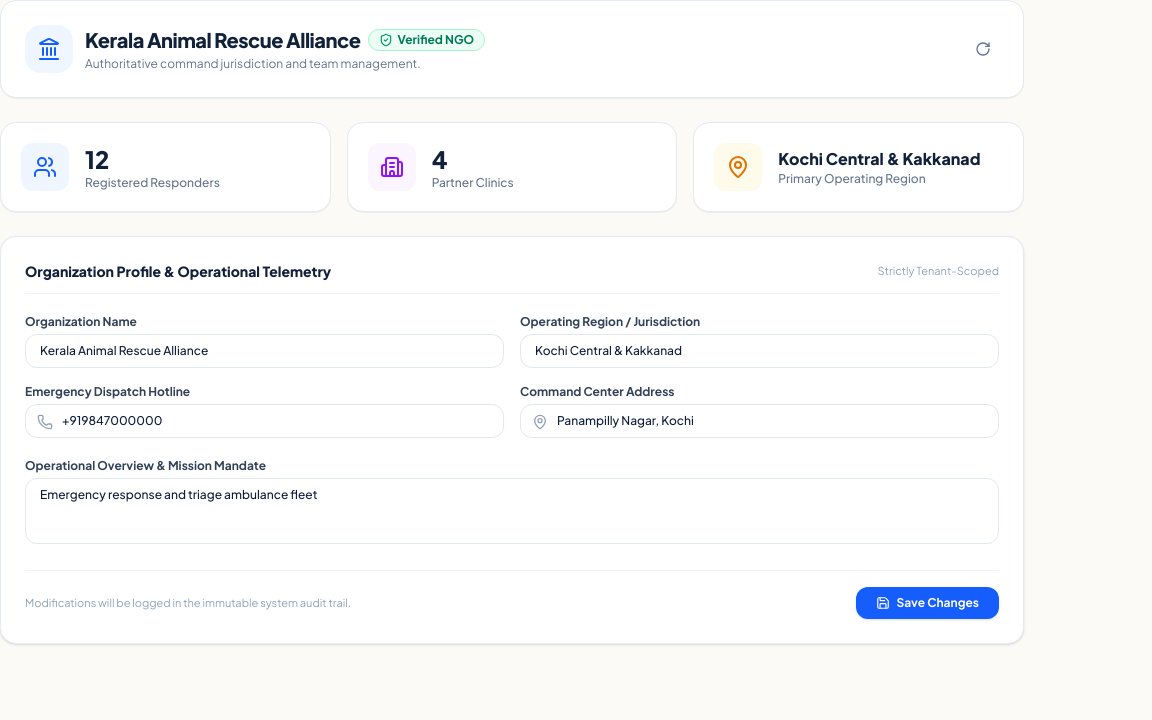
Test: NGOOrganization Component › loads profile and submits updates to authoritative backend
Check: the heading "Kerala Animal Rescue Alliance" is shown, box [85,26,360,54]
Check: the text "12" is shown, box [85,144,109,174]
Note: Update region input
Replace the text in the field labelled "Operating Region / Jurisdiction" with "Greater Kochi Metropolitan Area" at [760, 351], box [520,334,999,368]
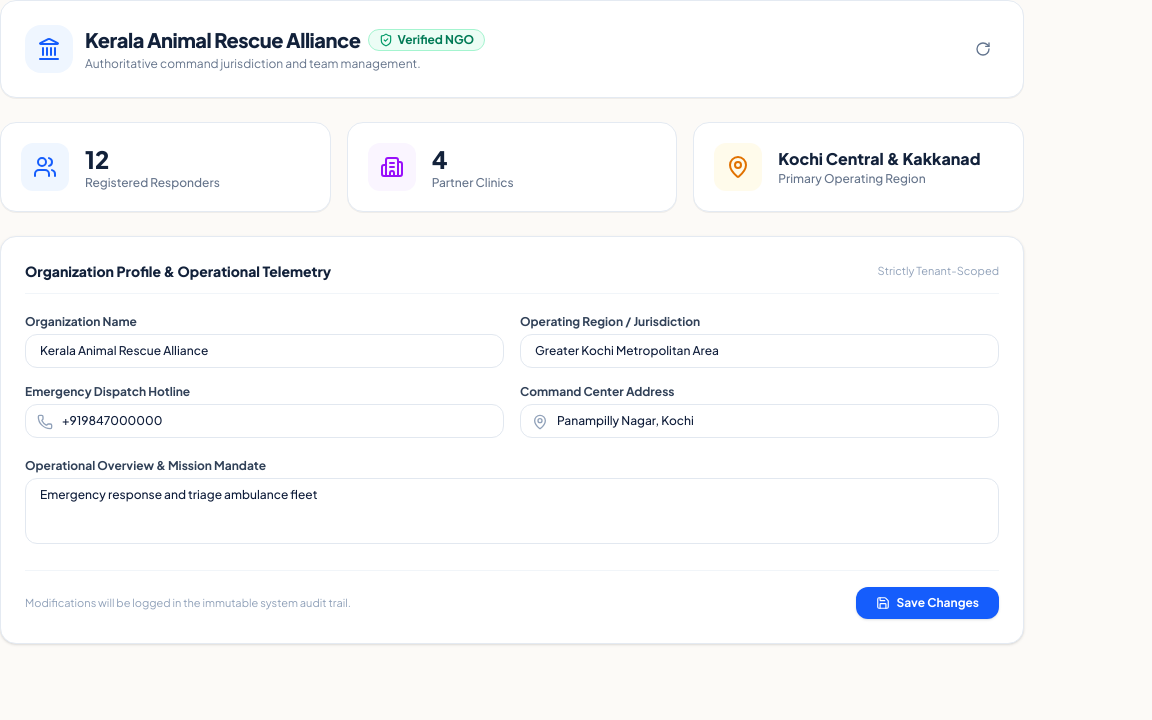
Note: Submit form
Click the button "Save Changes" at [928, 603], box [856,587,999,619]
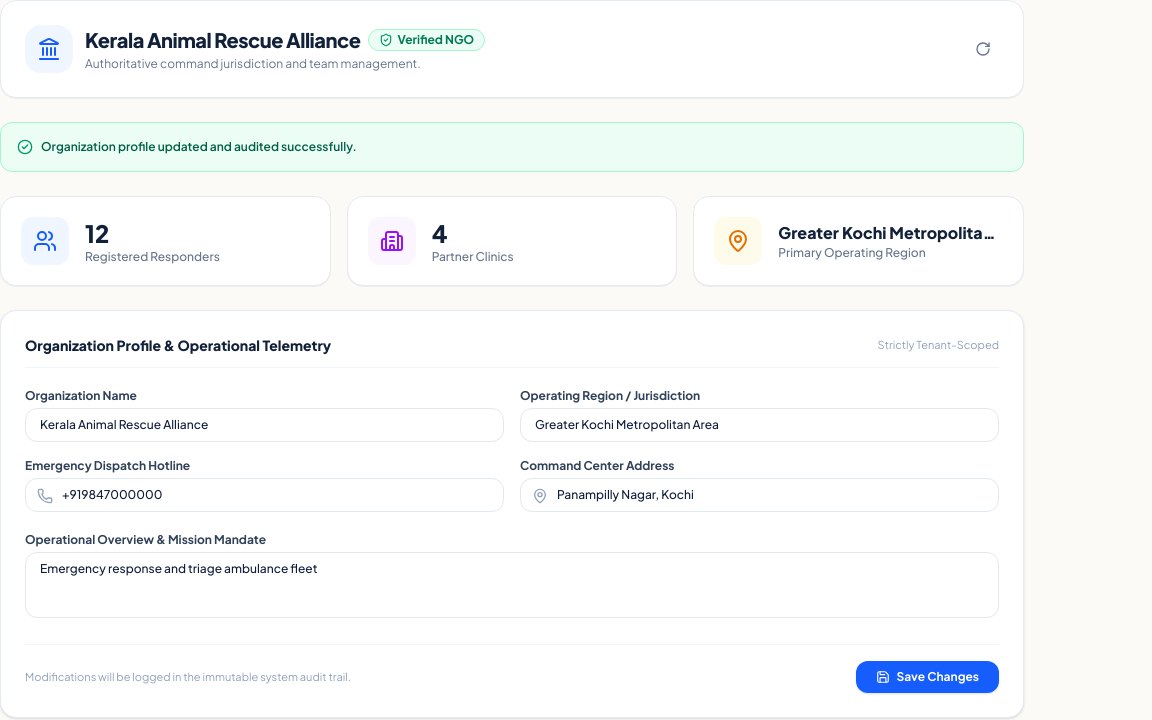
Check: the text "Organization profile updated and audited successfully." is shown, box [41,139,357,155]
